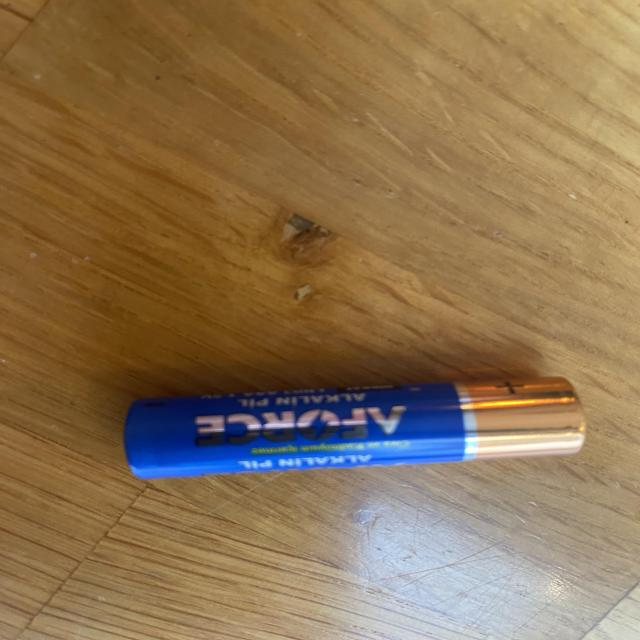AAA: (123, 375, 587, 480)
